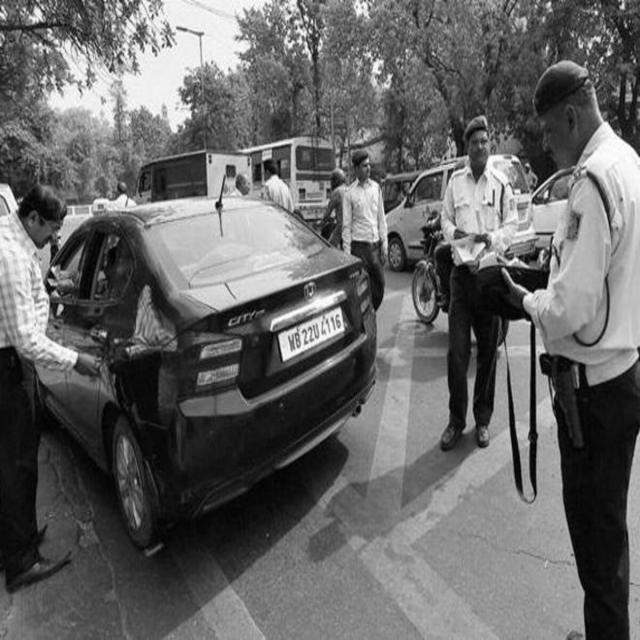bike: (412, 213, 452, 324), (321, 167, 345, 246)
bus: (250, 134, 335, 220)
car: (37, 196, 377, 548), (387, 156, 467, 269), (135, 148, 250, 202), (534, 168, 574, 247)
person: (503, 60, 640, 640), (0, 184, 99, 592), (442, 248, 500, 449), (442, 115, 518, 252), (342, 148, 388, 310), (263, 157, 294, 211)
